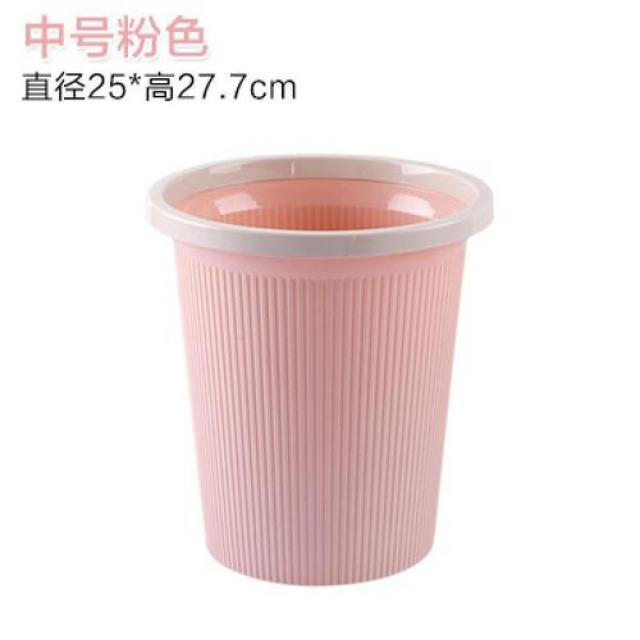Dustbin: (145, 148, 497, 596)
